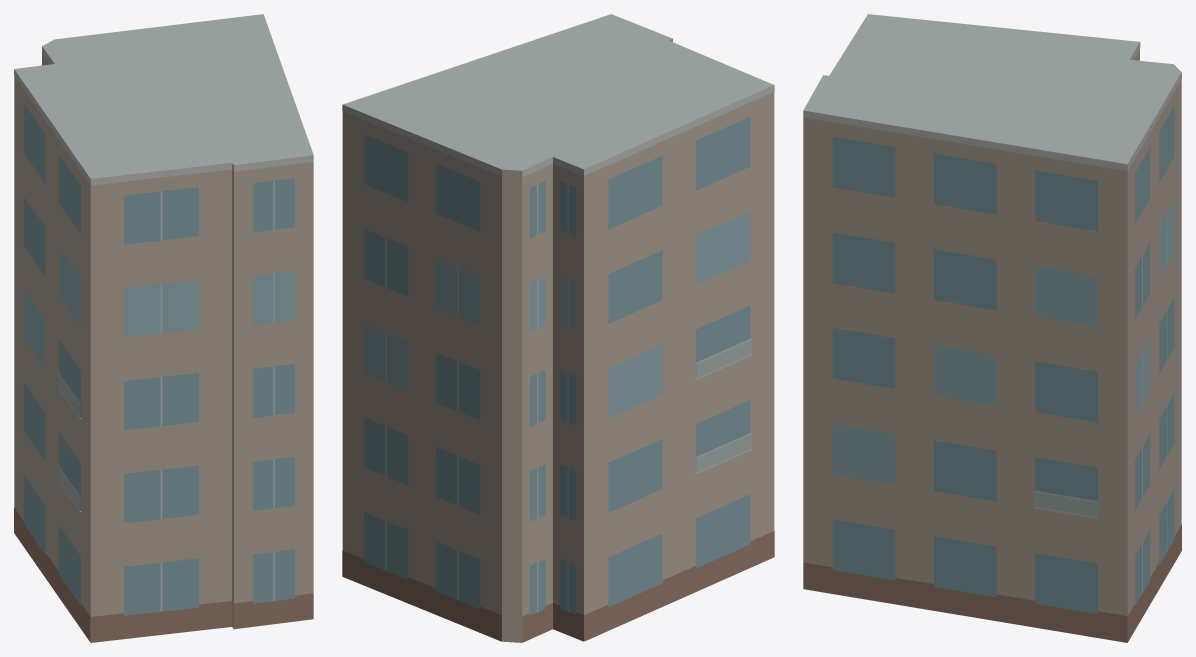
File: survey-upis-32721698.glb
The picture shows the model from 3 angles, left to right: view 1: azimuth 30°, elevation 25°; view 2: azimuth 150°, elevation 25°; view 3: azimuth 270°, elevation 25°; orthographic projection. The views are drawn at different scales.
Visible parts, largest first — view 1: survey-upis-32721698.tmp; view 2: survey-upis-32721698.tmp; view 3: survey-upis-32721698.tmp.
Part boxes in pixels (box(x1,y1,x2,y2)): survey-upis-32721698.tmp: box(14, 14, 313, 642); survey-upis-32721698.tmp: box(342, 14, 774, 642); survey-upis-32721698.tmp: box(803, 14, 1181, 642).
Bounding box in the file's own units: 11.53 × 17.11 × 12.27.
